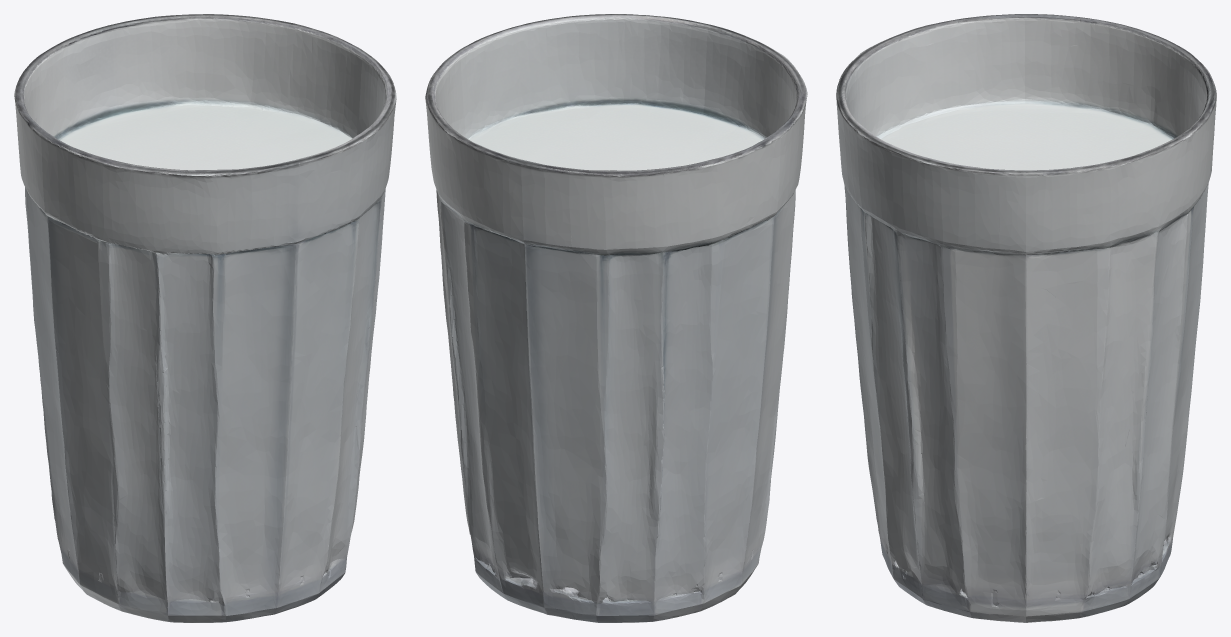
The model's file is sample.glb.
3 views of the same model, side by side, from view 1: azimuth 30°, elevation 25°; view 2: azimuth 150°, elevation 25°; view 3: azimuth 270°, elevation 25° (orthographic).
Visible parts, largest first — view 1: world; view 2: world; view 3: world.
Part boxes in pixels (box(x1,y1,x2,y2)): world: box(14, 14, 396, 622); world: box(425, 14, 807, 622); world: box(836, 14, 1216, 622).
Bounding box in the file's own units: 0.7214 × 0.9986 × 0.7217.
1 material, 1 textured.
